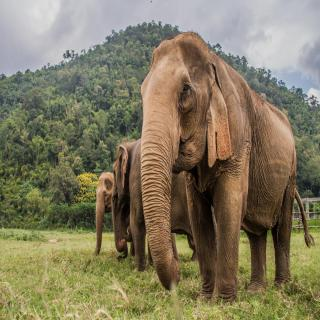Elephant: (138, 26, 320, 307)
